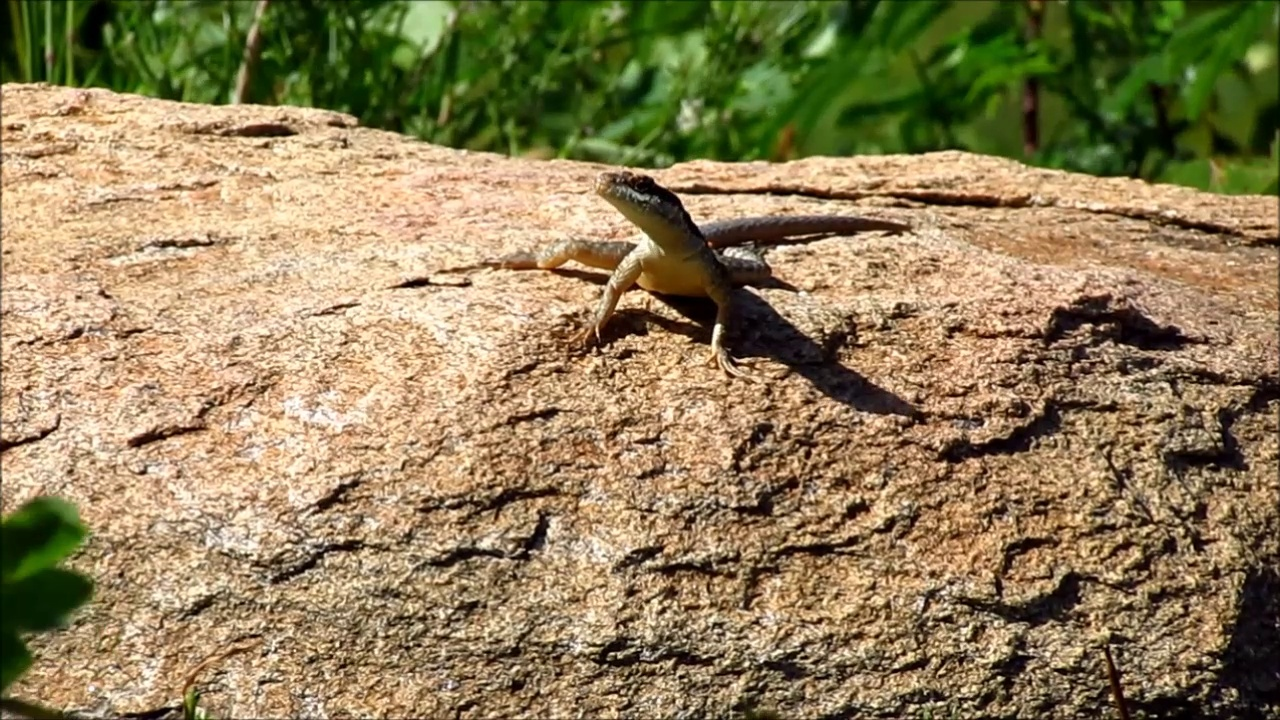body: (480, 217, 912, 378)
head: (592, 169, 684, 236)
